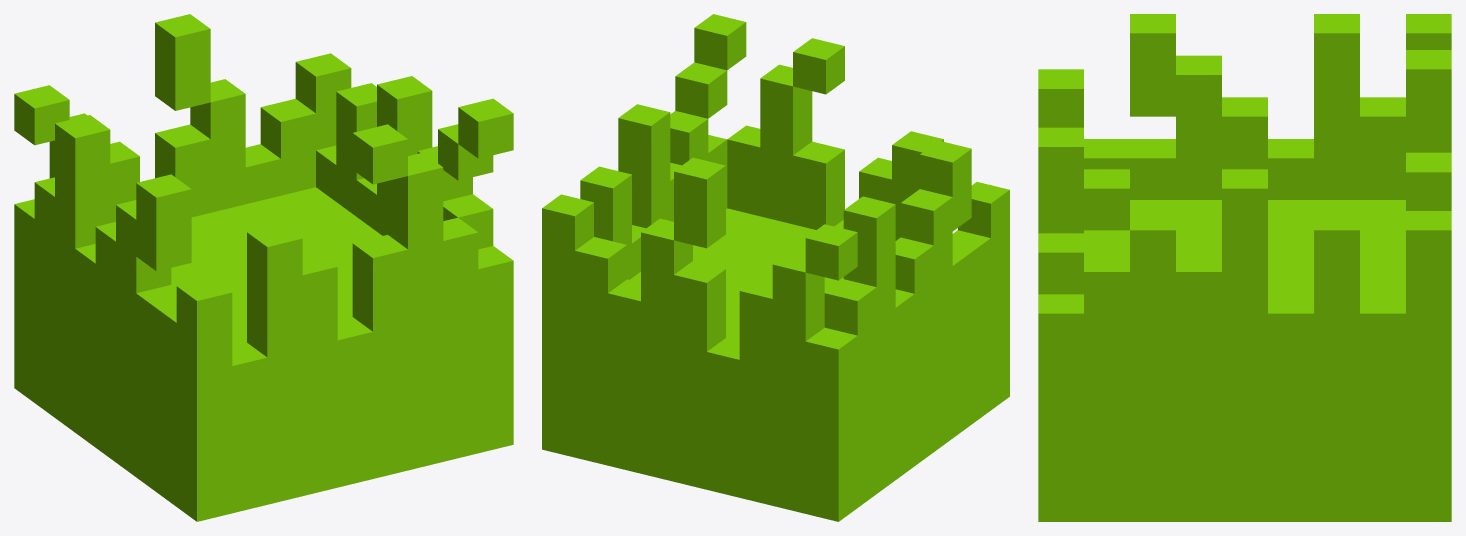
The model's file is Grass.fbx.
3 renders of one model, left to right at view 1: azimuth 30°, elevation 25°; view 2: azimuth 150°, elevation 25°; view 3: azimuth 270°, elevation 25°, orthographic. The views are drawn at different scales.
Parts seen in each view (by area): view 1: obj1; view 2: obj1; view 3: obj1.
Part boxes in pixels (<box>): obj1: <box>14,14,513,521</box>; obj1: <box>542,14,1009,521</box>; obj1: <box>1038,14,1451,521</box>.
Size of the model in its own units: 90 by 90 by 90.
Materials: 1 (1 with a texture image).
